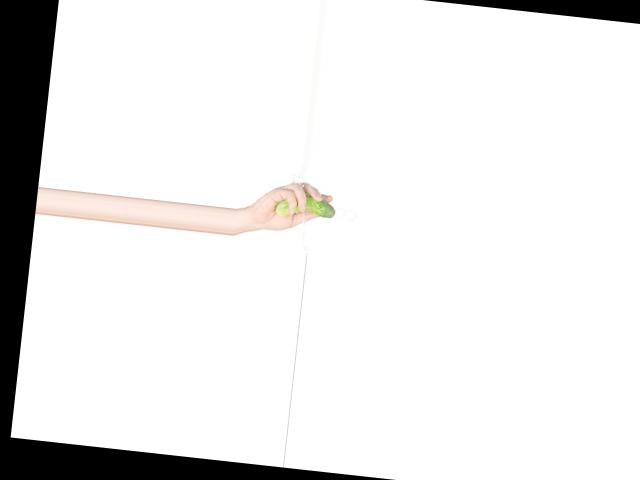cucumber: (275, 192, 336, 220)
